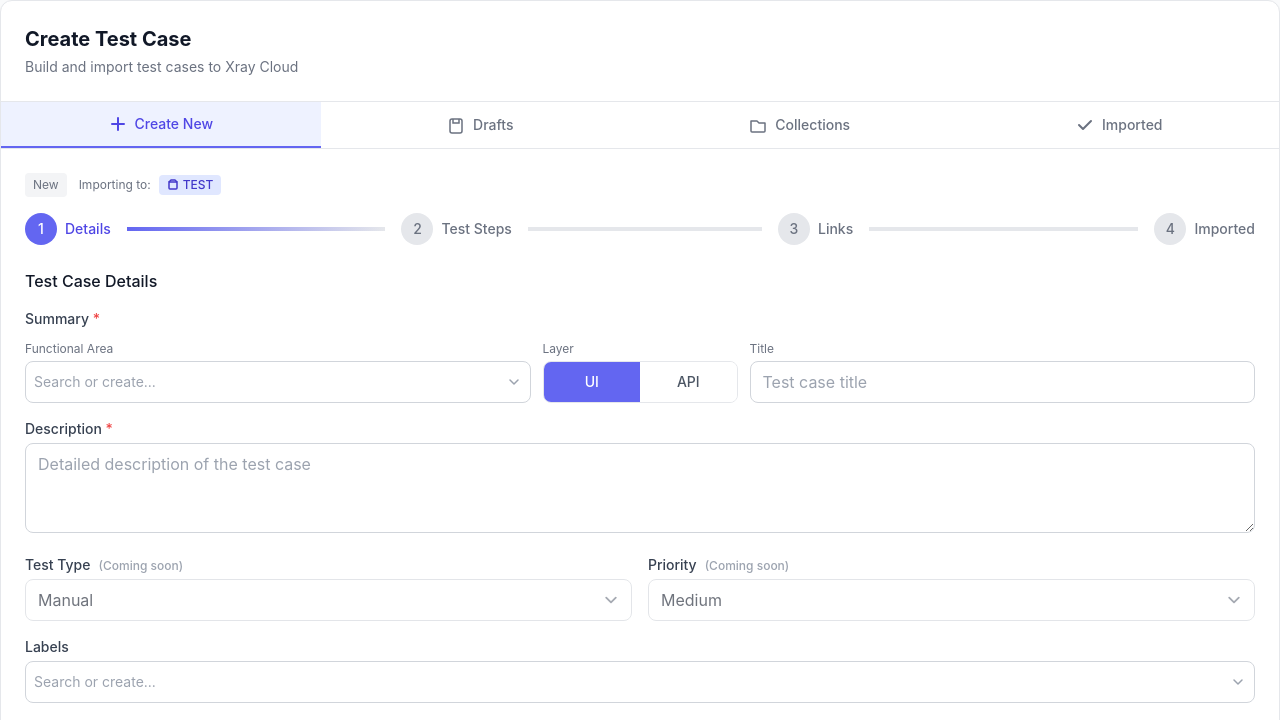
Test: TestCaseBuilder › should handle load drafts error
// Switch to saved tab to see the error
Step 1. Click the button "Drafts" → (480, 125), box [320,102,640,148]
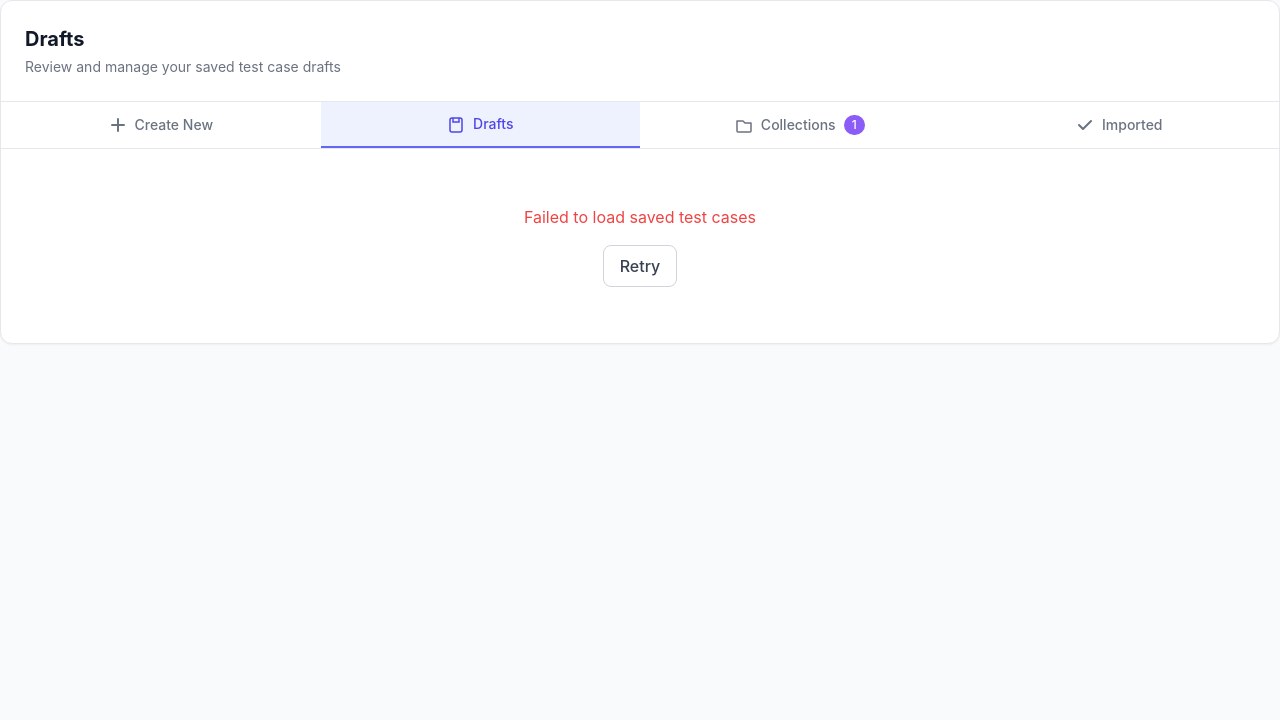
Now the text "Failed to load saved test cases" is shown, box [524,207,756,227]
